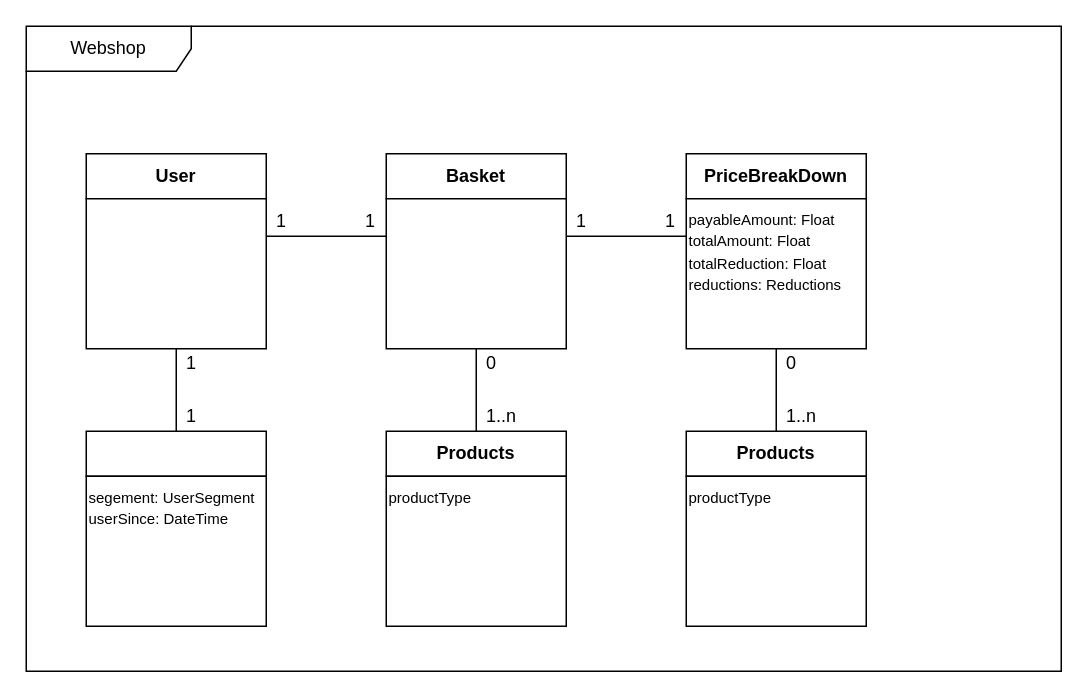
Image size: 1088x698. Some labels were removed from this diagram. Each missing label, with the centre of its shape:
"Id: String products: Products" belongs at (x=475, y=273).
"Id: String userProfile: UserProfile" belongs at (x=175, y=273).
"UserProfile" belongs at (x=175, y=453).
